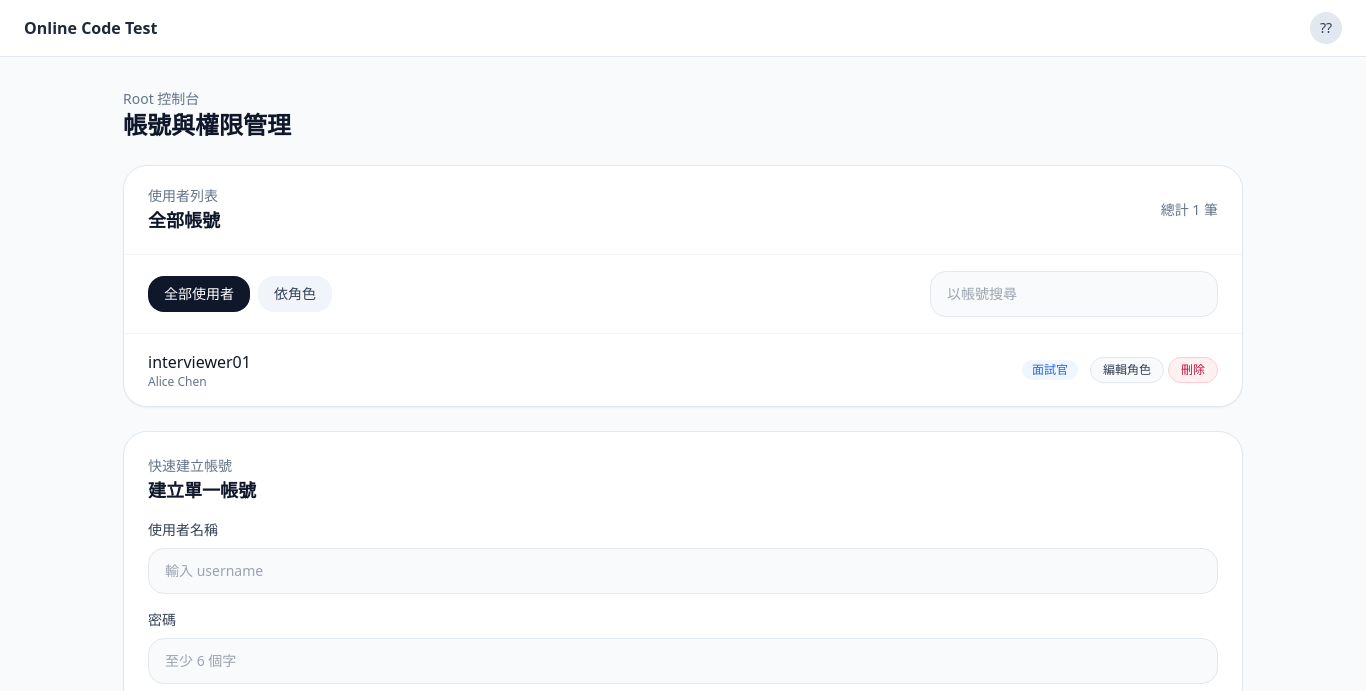
Test: AdminDashboardPage() › shows role filter buttons when 依角色 tab is active
expect the text "interviewer01" is shown: met, box [148,350,251,374]
Click the button "依角色". click: x=295, y=294
box: [258,276,332,312]
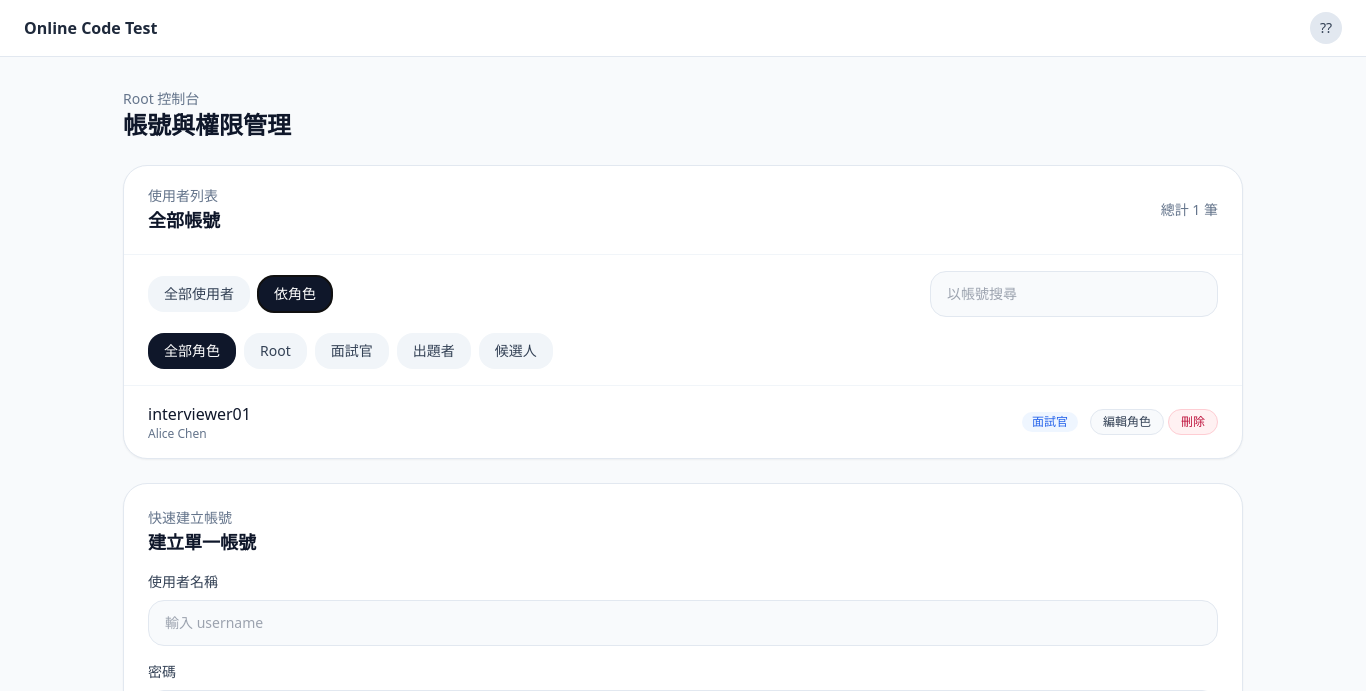
expect the button "面試官" is shown: met, box [315,333,389,369]
expect the button "出題者" is shown: met, box [397,333,471,369]
expect the button "候選人" is shown: met, box [479,333,553,369]
